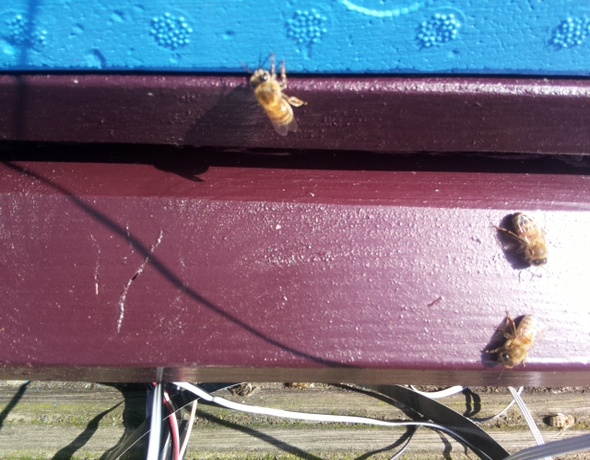no_pollen: (489, 311, 544, 373), (501, 209, 552, 271)
pollen: (248, 59, 306, 137)
